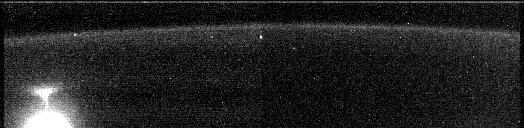positive: (29, 85, 60, 107)
